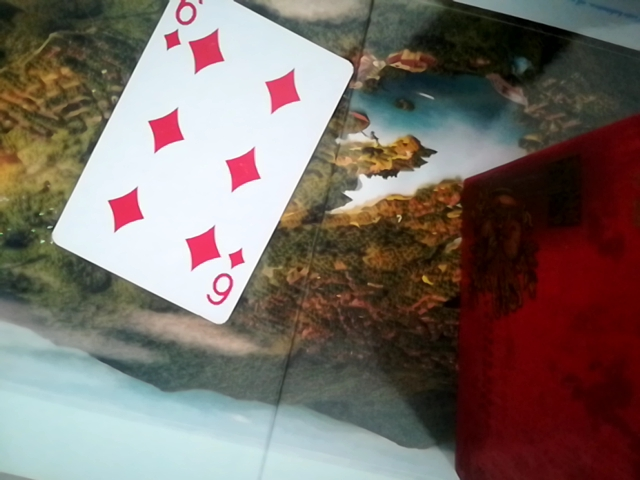fk 6: (45, 2, 351, 332)
